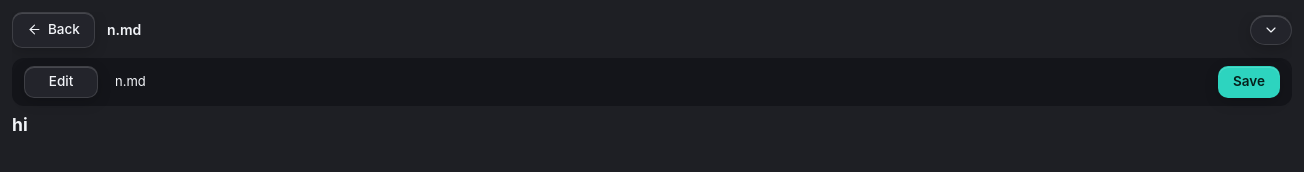
FileViewer › the actions menu offers Expand for a markdown item (editable view)
Expected: the heading "hi" is shown, [12, 114, 28, 135]
Click the button named "file actions": x=1271, y=30 [1250, 15, 1292, 45]
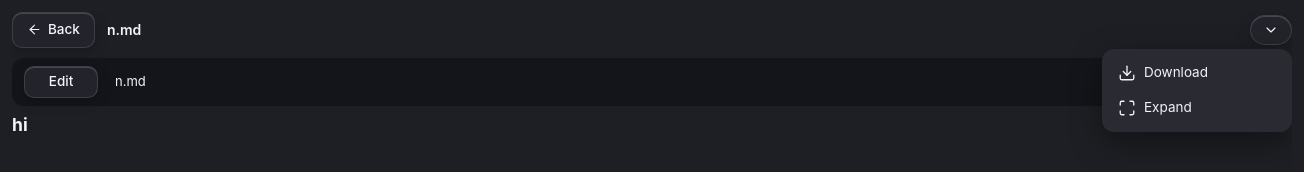
Expected: the menu item "Expand" is shown, [1118, 99, 1192, 117]
